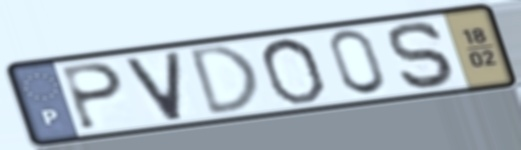0: (326, 28, 391, 100)
D: (187, 42, 265, 120)
O: (257, 35, 329, 107)
P: (58, 61, 127, 133)
S: (386, 19, 461, 91)
V: (121, 48, 186, 124)
